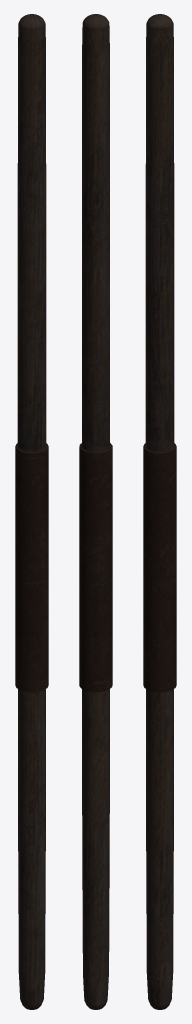
Rendered from wm_isengard_2h_axe_c01_handle.fbx.
3 views of the same model, side by side, from view 1: azimuth 90°, elevation 25°; view 2: azimuth 210°, elevation 25°; view 3: azimuth 270°, elevation 25° (orthographic).
Visible parts, largest first — view 1: wm_isengard_2h_axe_c01_handle; view 2: wm_isengard_2h_axe_c01_handle; view 3: wm_isengard_2h_axe_c01_handle.
Part boxes in pixels (<box>): wm_isengard_2h_axe_c01_handle: <box>15,14,48,1009</box>; wm_isengard_2h_axe_c01_handle: <box>79,14,112,1009</box>; wm_isengard_2h_axe_c01_handle: <box>143,14,176,1009</box>.
Size of the model in its own units: 0.0448 by 0.0448 by 1.46.
Materials: 1 (1 with a texture image).
